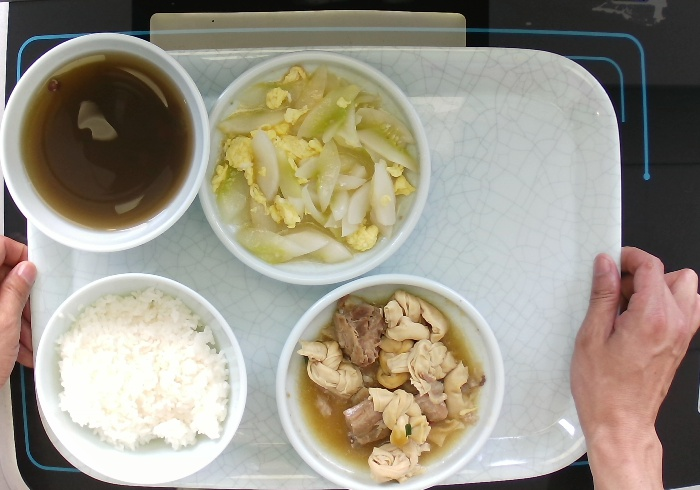JYsf-Fan_Wan: (1, 30, 213, 254), (33, 270, 250, 486)
JYsf-Xiao_Yuan_Pan: (197, 49, 433, 287), (273, 271, 506, 490)
